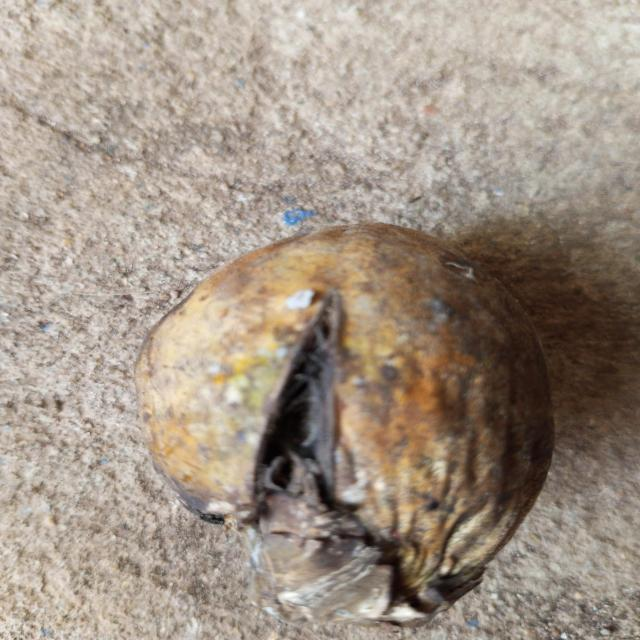damaged: (133, 223, 555, 631)
